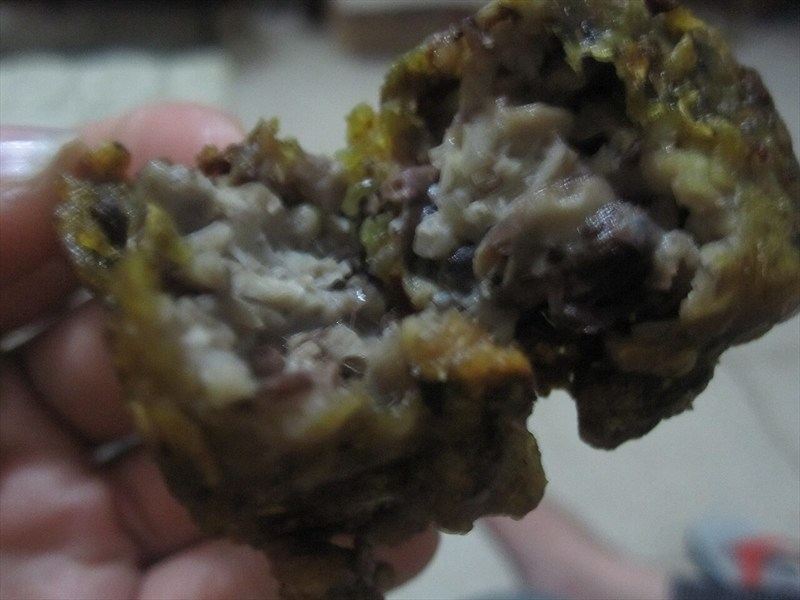Tempe Goreng: (16, 44, 733, 561)
